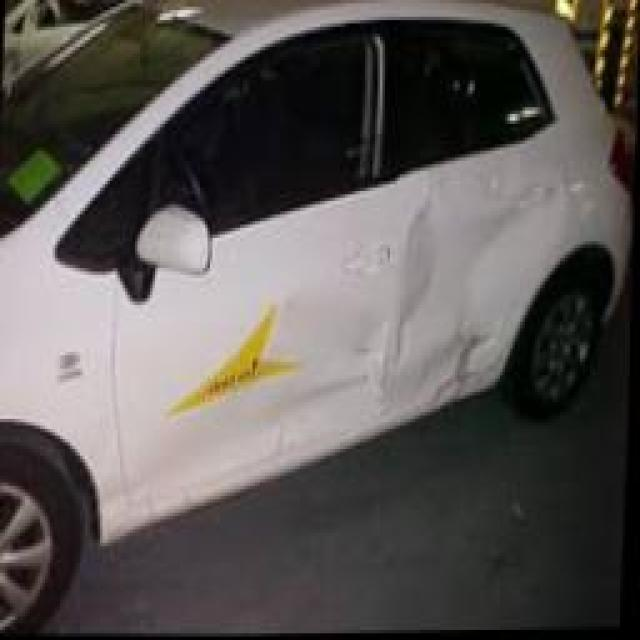replaceable: (382, 165, 576, 420)
